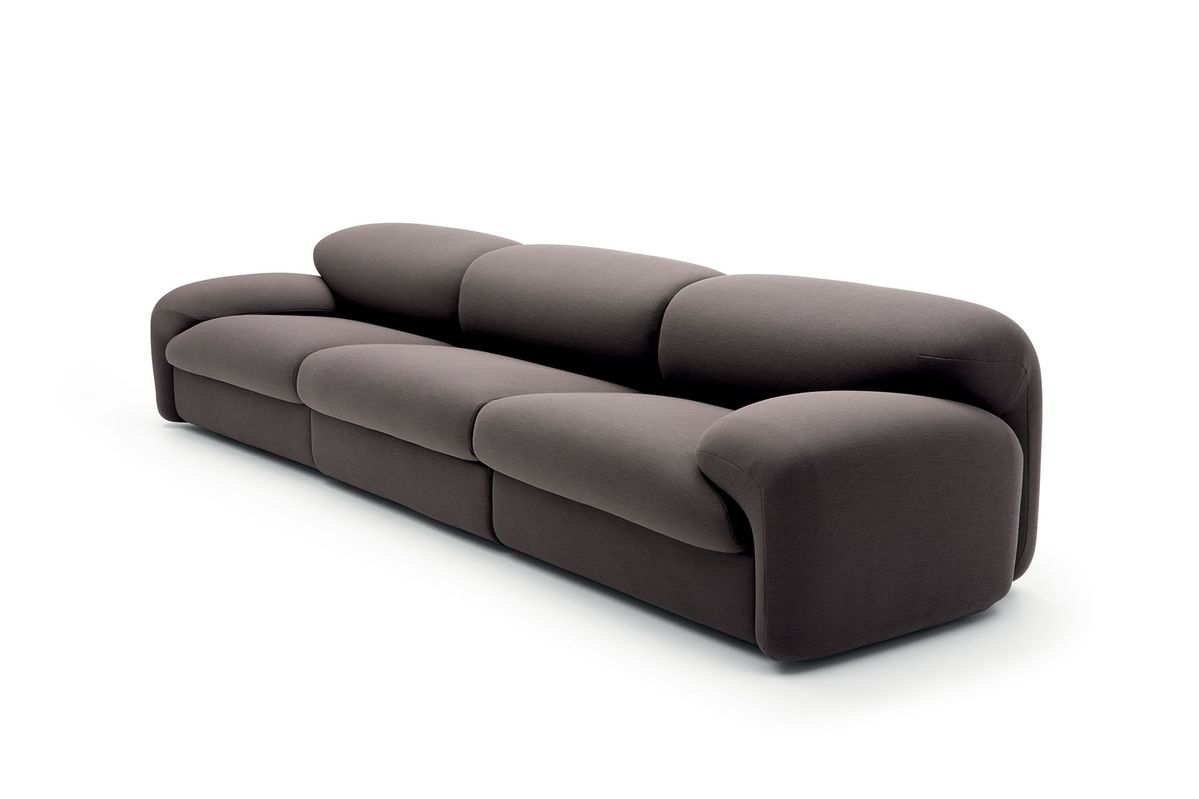3seatersofa: (151, 223, 1042, 660)
backrest: (315, 225, 1039, 575)
base: (175, 370, 752, 639)
leftarmrest: (696, 393, 1020, 660)
rightarmrest: (151, 273, 335, 420)
seat: (167, 314, 742, 552)
